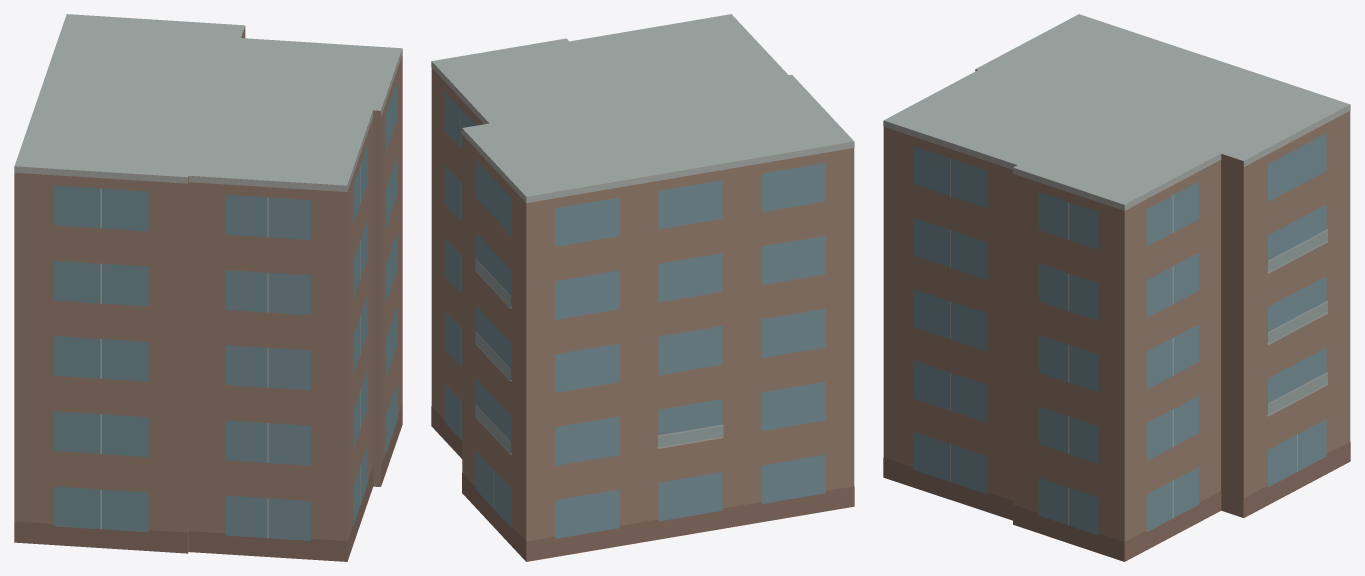
Rendered from survey-upis-32915418.glb.
The picture shows the model from 3 angles, left to right: view 1: azimuth 30°, elevation 25°; view 2: azimuth 150°, elevation 25°; view 3: azimuth 270°, elevation 25°; orthographic projection. The views are drawn at different scales.
Parts seen in each view (by area): view 1: survey-upis-32915418.tmp; view 2: survey-upis-32915418.tmp; view 3: survey-upis-32915418.tmp.
Part boxes in pixels (left/top/right/bottom): survey-upis-32915418.tmp: left=14, top=14, right=402, bottom=561; survey-upis-32915418.tmp: left=431, top=14, right=854, bottom=561; survey-upis-32915418.tmp: left=883, top=14, right=1350, bottom=561.
Size of the model in its own units: 16.46 by 14.35 by 17.02.
